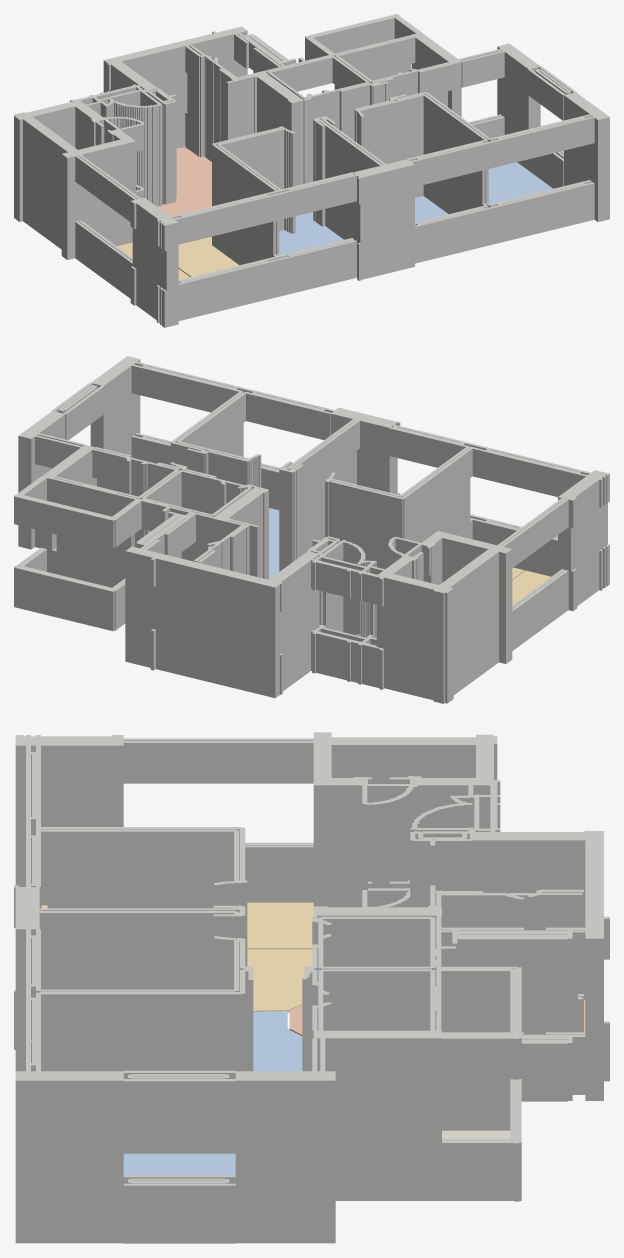
3 views of the same model, one above another, from view 1: azimuth 30°, elevation 25°; view 2: azimuth 150°, elevation 25°; view 3: azimuth 270°, elevation 25° (orthographic). The views are drawn at different scales.
Visible parts, largest first — view 1: walls, room:kitchen:1, room:bedroom:10, room:living:7, room:bedroom:8, room:bedroom:9; view 2: walls, room:bedroom:9, room:living:6; view 3: walls, room:living:7, room:living:6, room:bedroom:8, room:bedroom:10.
Part boxes in pixels (<box>): walls: <box>14,14,609,327</box>; room:kitchen:1: <box>157,147,211,216</box>; room:bedroom:10: <box>488,162,552,203</box>; room:living:7: <box>178,236,238,277</box>; room:bedroom:8: <box>279,212,343,254</box>; room:bedroom:9: <box>415,196,448,222</box>; walls: <box>14,356,609,703</box>; room:bedroom:9: <box>269,508,279,579</box>; room:living:6: <box>512,570,550,604</box>; walls: <box>14,732,609,1243</box>; room:living:7: <box>247,949,312,1012</box>; room:living:6: <box>41,902,313,949</box>; room:bedroom:8: <box>253,1011,302,1071</box>; room:bedroom:10: <box>123,1153,235,1174</box>.
Size of the model in its own units: 12.9 by 2.8 by 9.31.
